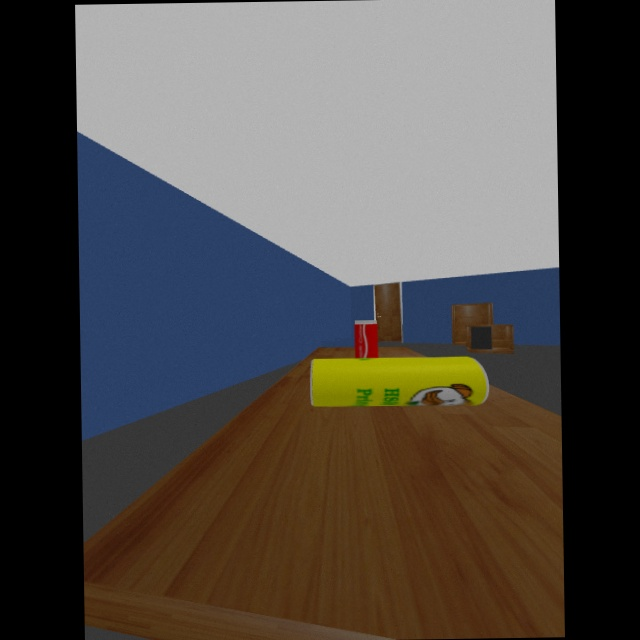chipsdose_gelb: (309, 357, 490, 406)
